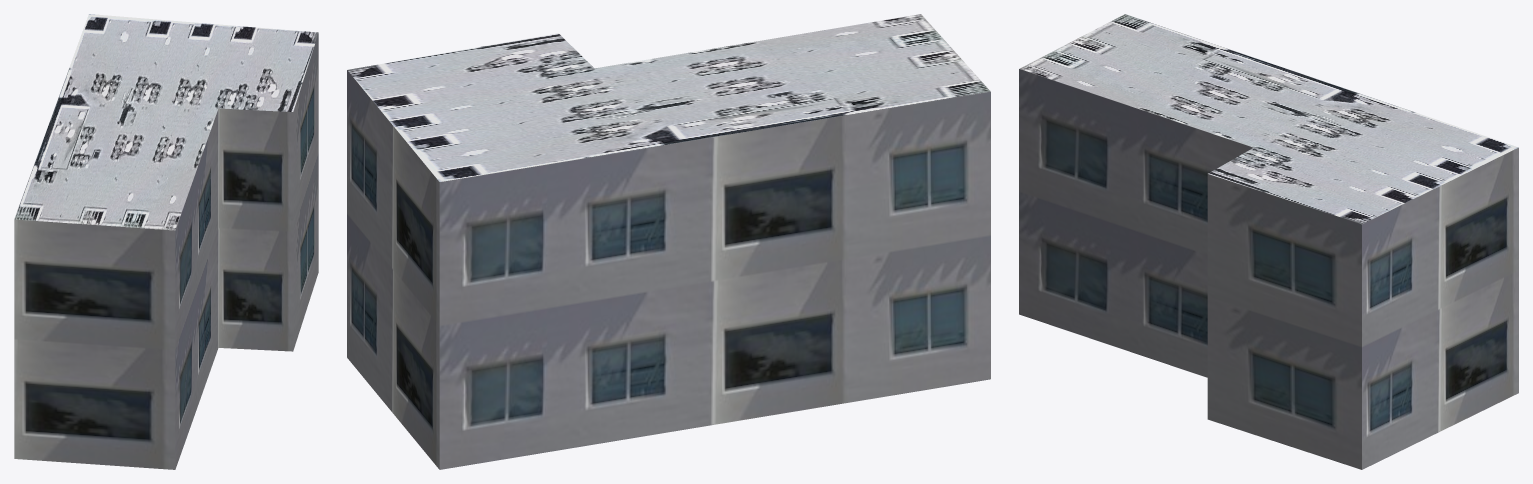
The model's file is ResTex__976.fbx.
3 renders of one model, left to right at view 1: azimuth 30°, elevation 25°; view 2: azimuth 150°, elevation 25°; view 3: azimuth 270°, elevation 25°, orthographic. The views are drawn at different scales.
Parts seen in each view (by area): view 1: CityEngineMaterial_10_m, CityEngineMaterial_8_m; view 2: CityEngineMaterial_10_m, CityEngineMaterial_8_m; view 3: CityEngineMaterial_10_m, CityEngineMaterial_8_m.
Boxes of the visible parts, x1,y1,x2,y2 form: CityEngineMaterial_10_m: (14, 33, 318, 469); CityEngineMaterial_8_m: (14, 14, 318, 230); CityEngineMaterial_10_m: (347, 70, 990, 469); CityEngineMaterial_8_m: (347, 14, 990, 181); CityEngineMaterial_10_m: (1019, 69, 1518, 469); CityEngineMaterial_8_m: (1019, 14, 1518, 224).
Size of the model in its own units: 11.02 by 6 by 11.06.
2 materials, 2 textured.
